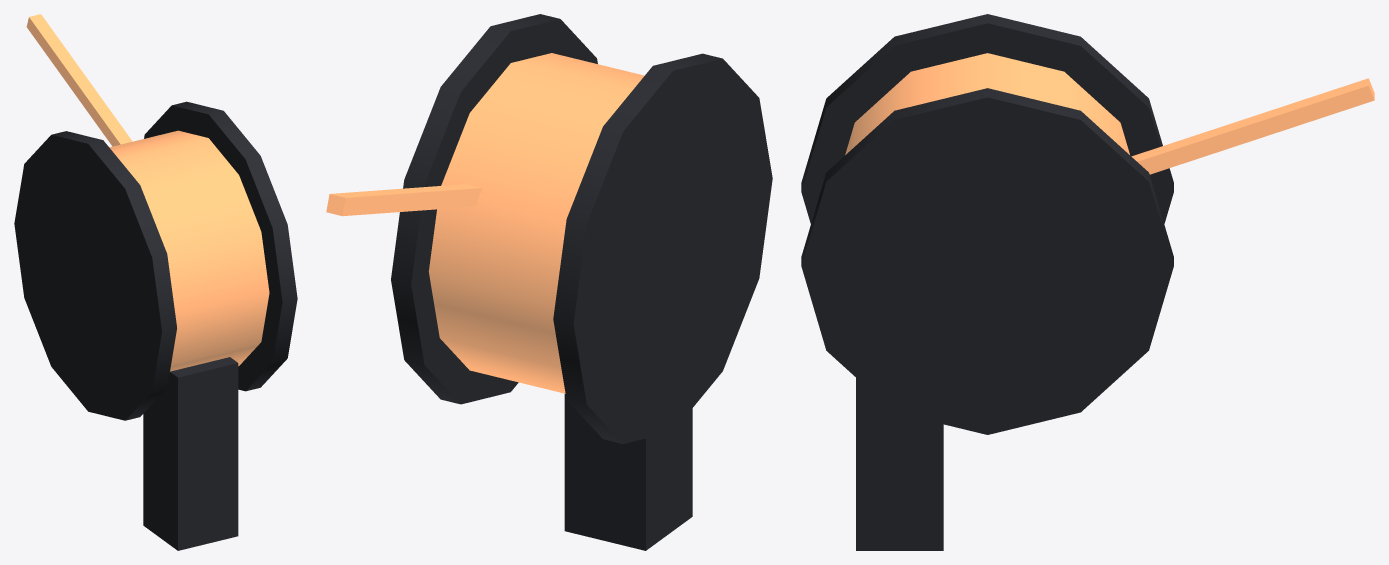
The model's file is tool_wires.glb.
The picture shows the model from 3 angles, left to right: view 1: azimuth 30°, elevation 25°; view 2: azimuth 150°, elevation 25°; view 3: azimuth 270°, elevation 25°; orthographic projection. The views are drawn at different scales.
Parts seen in each view (by area): view 1: _MeshInstance3D_1266, _MeshInstance3D_1265, _MeshInstance3D_1264, _MeshInstance3D_1267, _MeshInstance3D_1268; view 2: _MeshInstance3D_1266, _MeshInstance3D_1265, _MeshInstance3D_1267, _MeshInstance3D_1264, _MeshInstance3D_1268; view 3: _MeshInstance3D_1267, _MeshInstance3D_1266, _MeshInstance3D_1264, _MeshInstance3D_1265, _MeshInstance3D_1268.
Boxes of the visible parts, <box> form: _MeshInstance3D_1266: <box>14,131,176,420</box>; _MeshInstance3D_1265: <box>109,130,269,371</box>; _MeshInstance3D_1264: <box>143,357,238,550</box>; _MeshInstance3D_1267: <box>144,101,297,391</box>; _MeshInstance3D_1268: <box>26,14,132,146</box>; _MeshInstance3D_1266: <box>553,53,772,443</box>; _MeshInstance3D_1265: <box>428,53,644,393</box>; _MeshInstance3D_1267: <box>391,14,597,404</box>; _MeshInstance3D_1264: <box>564,394,692,550</box>; _MeshInstance3D_1268: <box>326,184,482,216</box>; _MeshInstance3D_1267: <box>801,88,1173,434</box>; _MeshInstance3D_1266: <box>801,14,1173,223</box>; _MeshInstance3D_1264: <box>856,378,943,550</box>; _MeshInstance3D_1265: <box>845,53,1129,154</box>; _MeshInstance3D_1268: <box>1131,78,1374,174</box>.
Size of the model in its own units: 0.09 by 0.24 by 0.2615.
